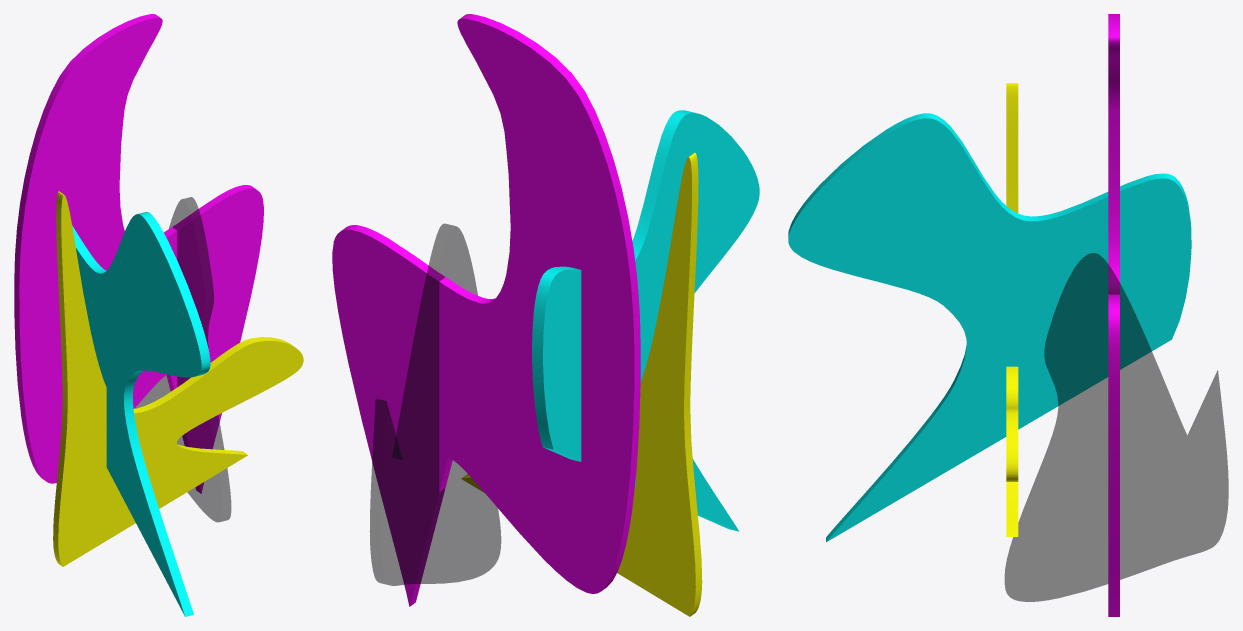
3 renders of one model, left to right at view 1: azimuth 30°, elevation 25°; view 2: azimuth 150°, elevation 25°; view 3: azimuth 270°, elevation 25°, orthographic. The views are drawn at different scales.
Visible parts, largest first — view 1: Body14, Body19, Body22, Body27; view 2: Body14, Body22, Body27, Body19; view 3: Body22, Body27, Body14, Body19.
Boxes of the visible parts, x1,y1,x2,y2 form: Body14: (14,14,263,493); Body19: (53,191,303,566); Body22: (72,212,210,616); Body27: (135,197,231,522); Body14: (332,14,640,606); Body22: (532,110,759,531); Body27: (369,223,501,585); Body19: (461,152,702,616); Body22: (788,113,1191,542); Body27: (1004,253,1228,601); Body14: (1108,14,1119,616); Body19: (1006,83,1018,536).
Bounding box in the file's own units: 0.5605 × 1.04 × 0.7441.
4 materials, 1 textured.
